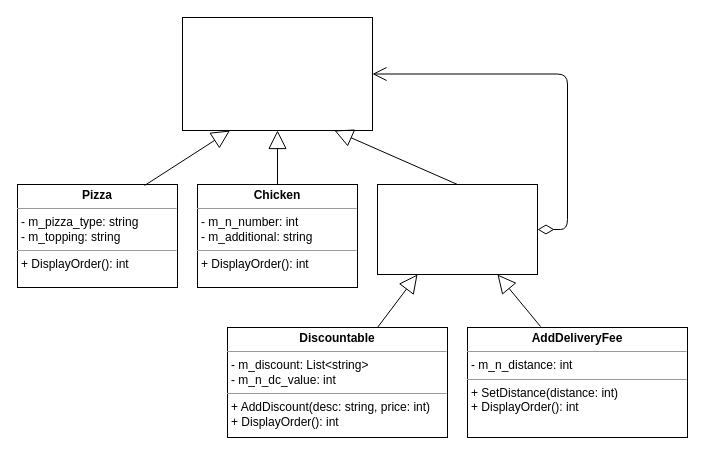
The diagram is 705 pixels wide and 455 high, and some of its shapes have lost their labels. Here are the shapes that lost their labels. From the top down, the centre of each, then its label:
At point (277, 73): "<<abstract>> Order # m_price: int + GetPrice() + DisplayOrder(): int".
At point (457, 229): "Decorator - m_order: Order + DisplayOrder(): int".
